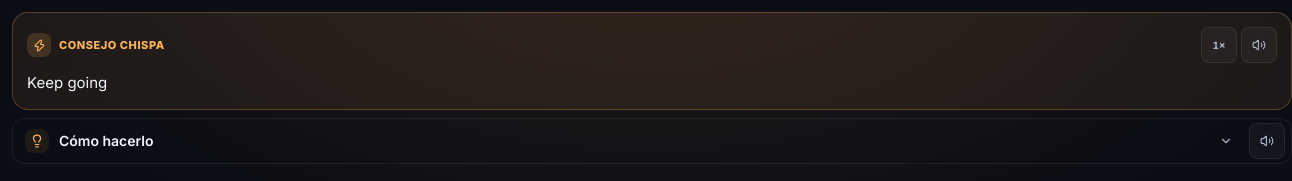
Test: ExerciseExplainer › falls back to instructions text when instructionsSteps is empty
The width and height of the screenshot is (1292, 181).
Step 1. Click the button "Cómo hacerlo" → point(106, 141), box [13,119,1245,163]
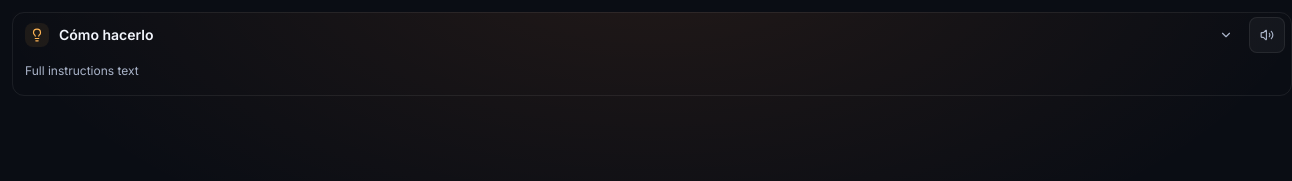
Check: the text "Full instructions text" is shown, box [25,63,139,78]
